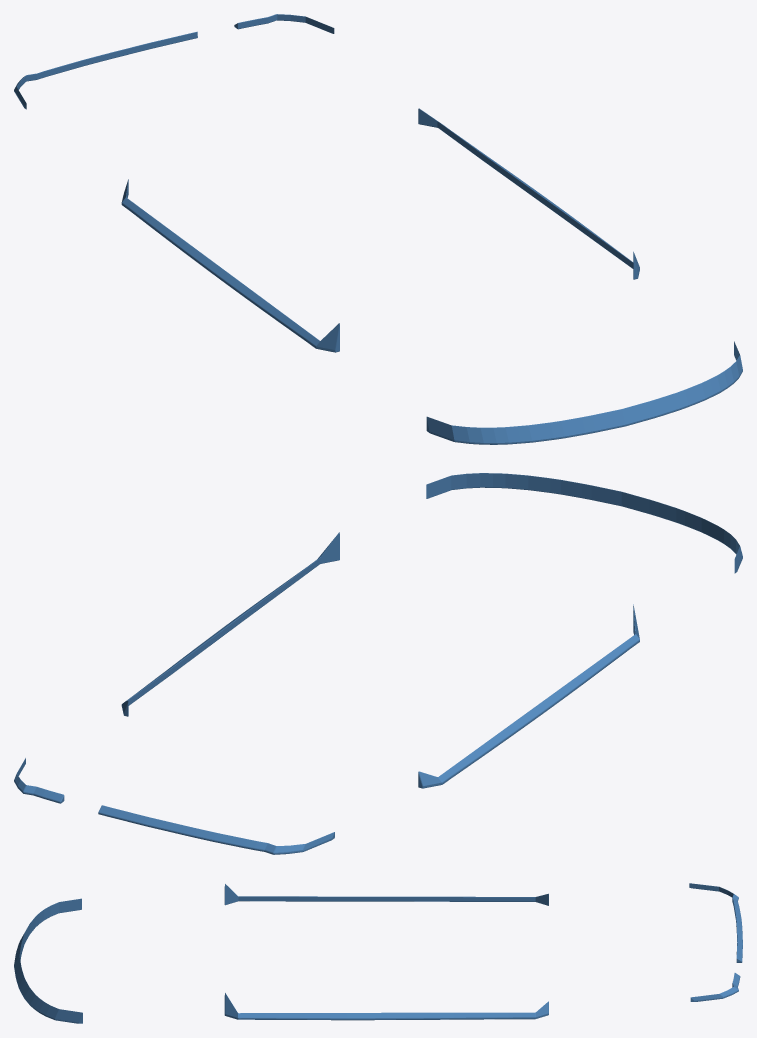
Rendered from integra_db8-kit1.glb.
The picture shows the model from 3 angles, top to bottom: view 1: azimuth 30°, elevation 25°; view 2: azimuth 150°, elevation 25°; view 3: azimuth 270°, elevation 25°; orthographic projection. The views are drawn at different scales.
Visible parts, largest first — view 1: FRONT_VALANCE_1_0, SKIRT_L_1, SKIRT_R_1, REAR_VALANCE_1_0, REAR_VALANCE_1_1; view 2: FRONT_VALANCE_1_0, SKIRT_L_1, REAR_VALANCE_1_0, SKIRT_R_1; view 3: SKIRT_R_1, SKIRT_L_1, FRONT_VALANCE_1_0, REAR_VALANCE_1_0, REAR_VALANCE_1_1.
Boxes of the visible parts, <box> form: FRONT_VALANCE_1_0: <box>426,341,742,444</box>; SKIRT_L_1: <box>121,179,339,352</box>; SKIRT_R_1: <box>418,108,639,279</box>; REAR_VALANCE_1_0: <box>14,31,197,109</box>; REAR_VALANCE_1_1: <box>234,14,334,33</box>; FRONT_VALANCE_1_0: <box>426,473,742,573</box>; SKIRT_L_1: <box>418,604,639,788</box>; REAR_VALANCE_1_0: <box>98,805,334,854</box>; SKIRT_R_1: <box>121,532,339,716</box>; SKIRT_R_1: <box>224,993,548,1020</box>; SKIRT_L_1: <box>224,884,548,905</box>; FRONT_VALANCE_1_0: <box>14,898,82,1023</box>; REAR_VALANCE_1_0: <box>689,883,742,962</box>; REAR_VALANCE_1_1: <box>690,973,740,1001</box>.
Size of the model in its own units: 1.7 by 0.188 by 4.32.
